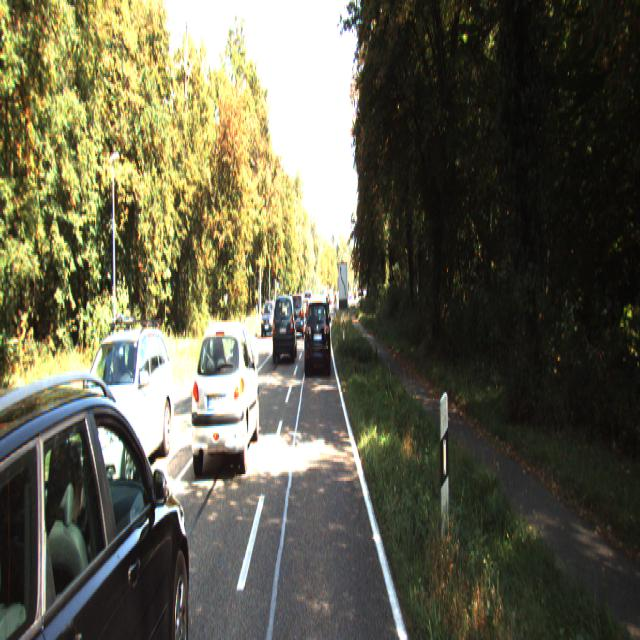Car: (0, 340, 195, 639), (59, 322, 176, 508), (191, 313, 259, 472), (304, 293, 330, 373), (272, 292, 298, 360)
